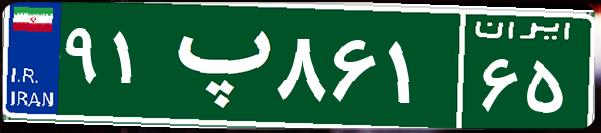1: (385, 28, 445, 110), (110, 28, 158, 105)
5: (525, 38, 570, 115)
6: (330, 28, 385, 110), (475, 38, 525, 113)
8: (273, 28, 330, 110)
9: (57, 26, 110, 107)
پ: (158, 15, 273, 115)
